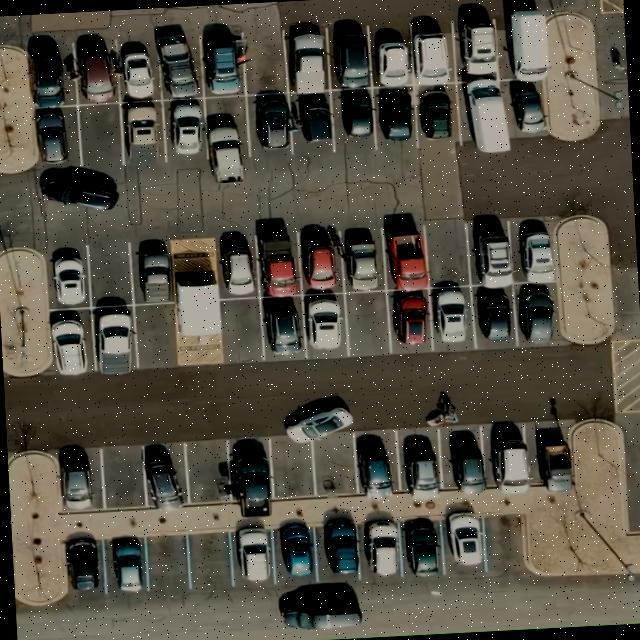space-empty: (86, 234, 134, 307), (240, 26, 290, 96), (424, 218, 471, 288), (310, 434, 360, 499), (184, 442, 233, 508), (98, 445, 146, 511), (268, 436, 316, 502), (79, 104, 124, 173), (344, 290, 391, 356), (218, 297, 264, 363), (134, 302, 180, 366), (188, 528, 232, 594), (486, 516, 530, 574), (147, 535, 190, 594)
space-occupied: (253, 227, 310, 300), (461, 78, 514, 154), (283, 22, 334, 95), (454, 12, 507, 82), (225, 438, 275, 510), (484, 422, 534, 494), (204, 96, 250, 172), (214, 231, 264, 300), (380, 220, 429, 290), (438, 424, 487, 494), (408, 17, 458, 85), (158, 29, 206, 99), (338, 222, 386, 292), (466, 216, 514, 286), (89, 306, 139, 372), (200, 31, 250, 97), (120, 102, 168, 170), (316, 514, 363, 583), (302, 292, 351, 358), (413, 82, 462, 148), (27, 42, 76, 108), (396, 427, 442, 497), (48, 240, 94, 310), (296, 221, 340, 294), (56, 446, 103, 514), (359, 514, 406, 582), (352, 429, 398, 498), (498, 14, 544, 83), (116, 38, 164, 104), (427, 284, 474, 350), (442, 510, 489, 576), (49, 308, 96, 374), (509, 217, 556, 283), (141, 443, 188, 509), (387, 288, 434, 354), (260, 296, 307, 360), (512, 284, 559, 348), (230, 523, 277, 587), (164, 98, 208, 166), (130, 241, 178, 303), (506, 80, 554, 142), (76, 39, 120, 106), (374, 85, 417, 153), (328, 24, 371, 92), (274, 522, 319, 586), (102, 536, 150, 596), (399, 516, 444, 580), (369, 24, 413, 88), (246, 94, 294, 152), (472, 287, 516, 350), (331, 88, 375, 151), (528, 420, 569, 487), (62, 539, 108, 597), (33, 106, 78, 165), (290, 91, 333, 150)
